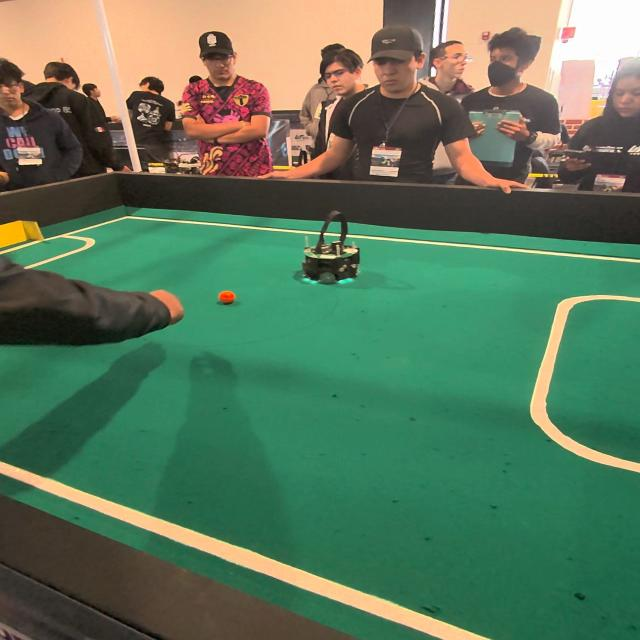Robot: (298, 207, 366, 292)
pelota: (217, 290, 235, 304)
